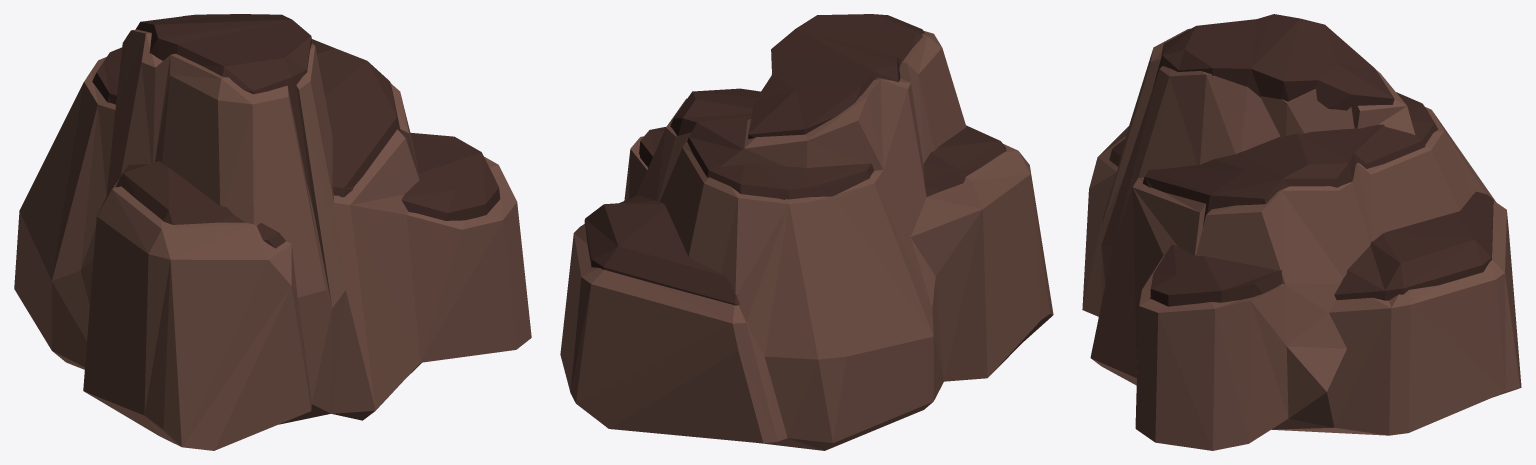
Rendered from Brown_rock_022.fbx.
3 views of the same model, side by side, from view 1: azimuth 30°, elevation 25°; view 2: azimuth 150°, elevation 25°; view 3: azimuth 270°, elevation 25° (orthographic). The views are drawn at different scales.
Parts seen in each view (by area): view 1: Brown_rock_022; view 2: Brown_rock_022; view 3: Brown_rock_022.
Boxes of the visible parts, box(x1,y1,x2,y2) form: Brown_rock_022: box(14, 14, 531, 450); Brown_rock_022: box(560, 14, 1053, 450); Brown_rock_022: box(1082, 14, 1521, 450).
Bounding box in the file's own units: 1218 × 1255 × 962.
